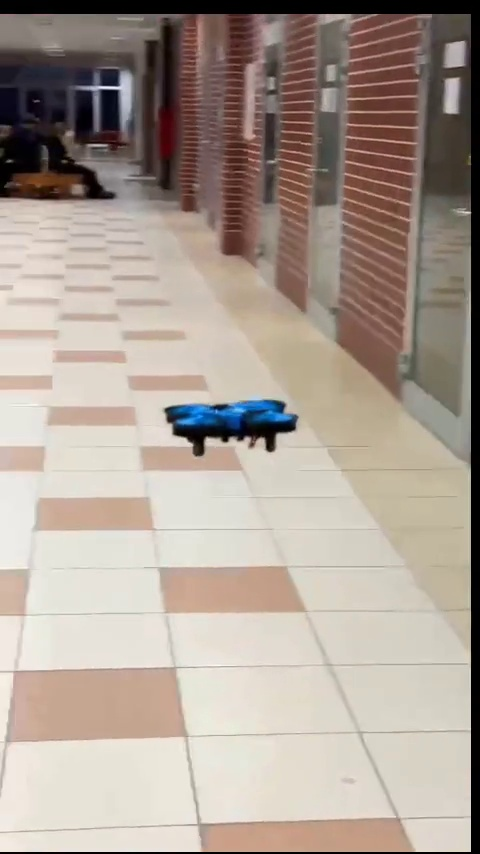drone: (160, 400, 293, 456)
